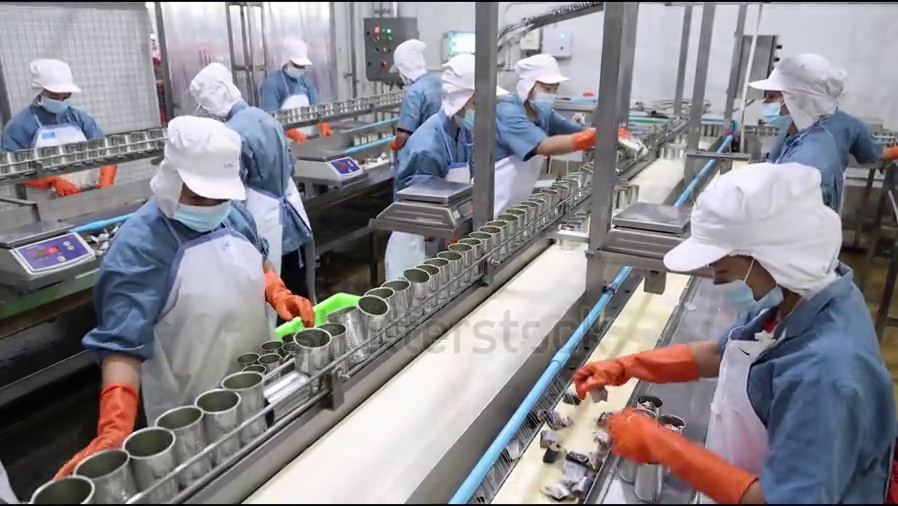employé: (680, 180, 828, 429), (137, 133, 234, 390), (745, 61, 840, 187), (507, 47, 569, 190), (434, 60, 486, 228), (386, 38, 433, 136), (18, 60, 82, 127), (193, 72, 252, 137), (266, 40, 315, 109)
machine: (22, 202, 615, 469), (9, 113, 358, 256)
produit: (119, 427, 178, 500), (158, 405, 208, 485), (220, 368, 270, 446), (201, 385, 241, 469), (360, 279, 393, 358), (350, 300, 389, 364), (334, 301, 367, 375), (79, 446, 125, 498), (319, 313, 349, 389), (294, 330, 327, 394), (29, 476, 92, 506), (265, 375, 315, 412), (371, 283, 401, 338), (416, 253, 440, 315), (435, 245, 455, 309), (489, 212, 509, 264), (383, 285, 411, 322), (475, 227, 497, 274), (454, 235, 473, 288), (512, 197, 532, 245), (403, 267, 422, 317), (533, 188, 552, 233), (550, 174, 568, 219), (506, 204, 521, 254), (126, 121, 143, 160), (146, 123, 166, 153), (14, 145, 32, 175), (37, 139, 53, 171), (571, 169, 581, 212), (69, 139, 82, 171), (105, 131, 121, 157), (55, 138, 67, 168), (96, 129, 105, 165), (371, 90, 386, 111), (327, 95, 339, 121), (658, 121, 670, 144), (85, 136, 94, 166), (311, 103, 325, 122), (121, 130, 129, 160), (342, 91, 353, 112), (271, 106, 282, 125), (645, 130, 657, 147), (284, 106, 294, 125), (388, 88, 397, 109), (297, 106, 307, 124), (359, 93, 368, 112), (669, 119, 679, 136), (705, 121, 715, 133)
